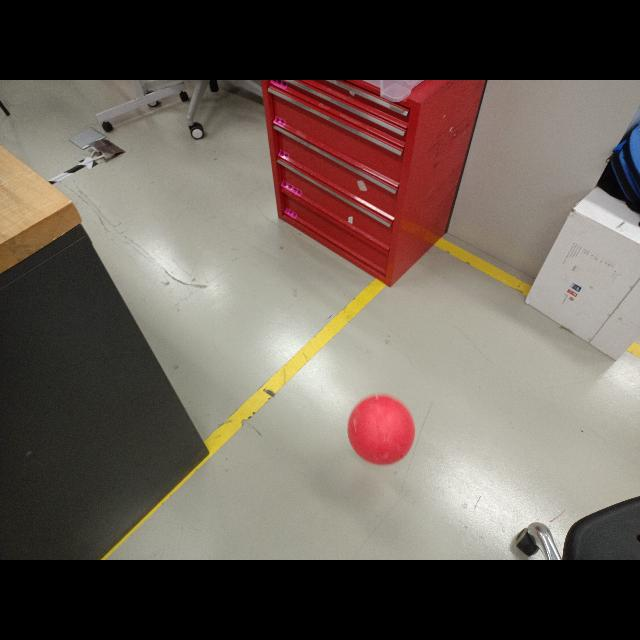R: (347, 394, 415, 466)
